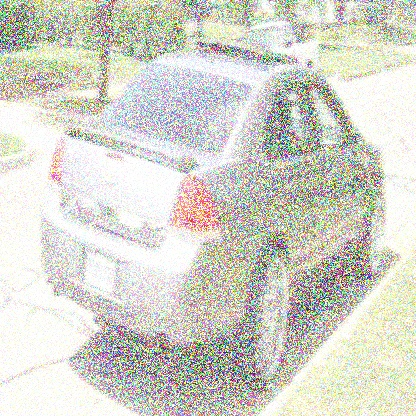Vehicle: (41, 41, 386, 392)
